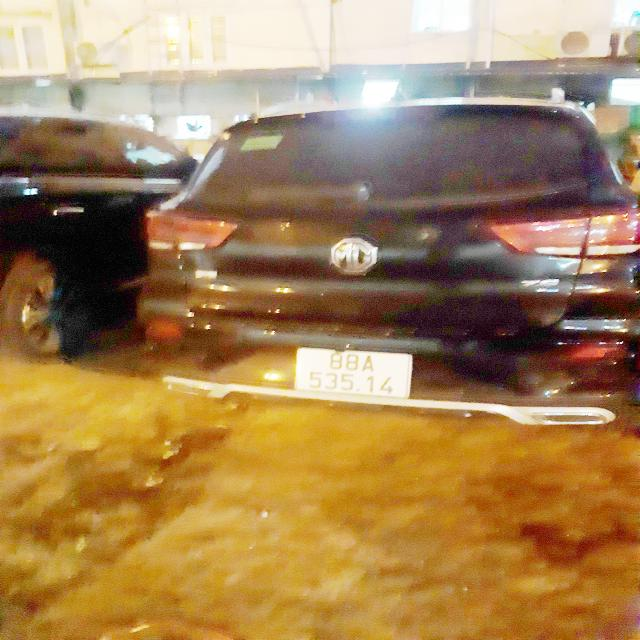license_plate: (293, 345, 417, 405)
